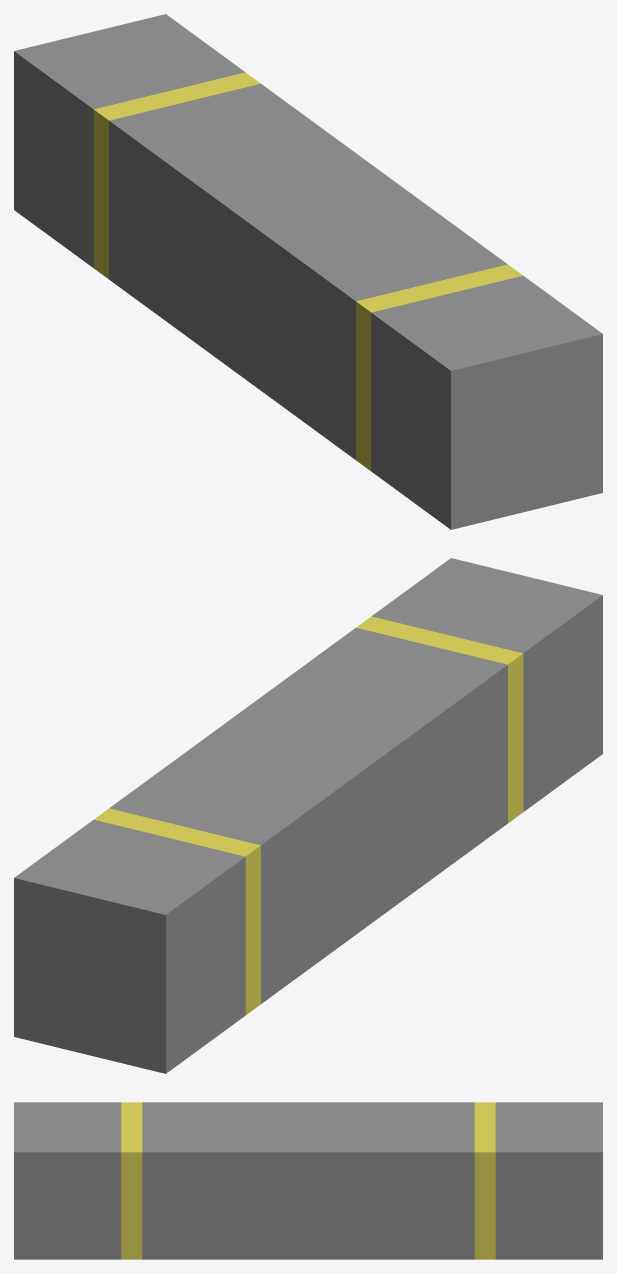
Rendered from obstacletwolane.fbx.
3 renders of one model, top to bottom at view 1: azimuth 30°, elevation 25°; view 2: azimuth 150°, elevation 25°; view 3: azimuth 270°, elevation 25°, orthographic. The views are drawn at different scales.
Parts seen in each view (by area): view 1: Cube; view 2: Cube; view 3: Cube.
Part boxes in pixels (x1,y1,x2,y2): Cube: (14, 14, 602, 529); Cube: (14, 558, 602, 1073); Cube: (14, 1102, 602, 1259).
Size of the model in its own units: 235 by 235 by 1172.
